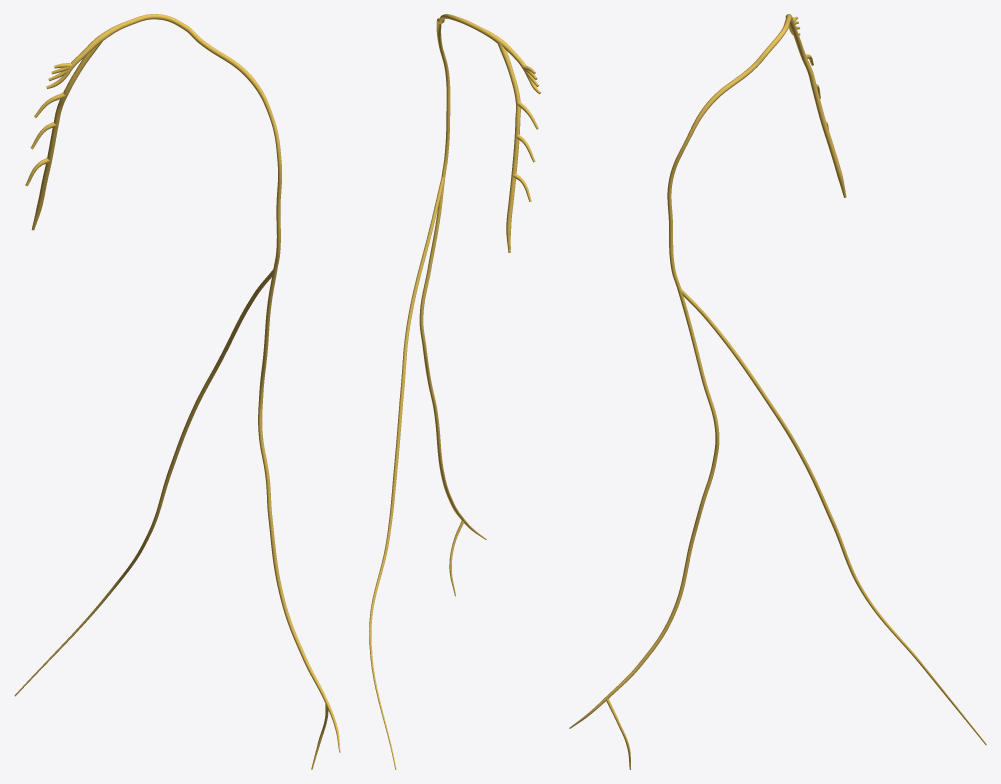
File: Accessory_nerve_left.glb
The picture shows the model from 3 angles, left to right: view 1: azimuth 30°, elevation 25°; view 2: azimuth 150°, elevation 25°; view 3: azimuth 270°, elevation 25°; orthographic projection. The views are drawn at different scales.
Visible parts, largest first — view 1: Accessory_nerve_(XI).l_BezierCurve.553; view 2: Accessory_nerve_(XI).l_BezierCurve.553; view 3: Accessory_nerve_(XI).l_BezierCurve.553.
Boxes of the visible parts, left/top/right/bottom form: Accessory_nerve_(XI).l_BezierCurve.553: left=14, top=14, right=340, bottom=769; Accessory_nerve_(XI).l_BezierCurve.553: left=369, top=14, right=540, bottom=769; Accessory_nerve_(XI).l_BezierCurve.553: left=569, top=14, right=986, bottom=769.
Size of the model in its own units: 0.0327 by 0.1204 by 0.062.
